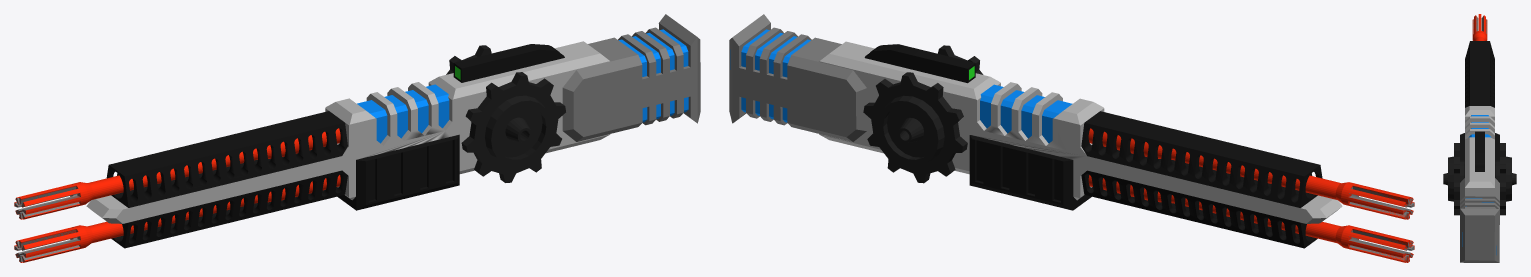
The model's file is EngAA.fbx.
3 renders of one model, left to right at view 1: azimuth 30°, elevation 25°; view 2: azimuth 150°, elevation 25°; view 3: azimuth 270°, elevation 25°, orthographic. The views are drawn at different scales.
Visible parts, largest first — view 1: Main, Mag, jok, FireTop, FireBLow, Box002, Box001, TopB, LowB; view 2: Main, Mag, jok001, FireTop, FireBLow, Box002, Box001, LowB, TopB; view 3: Main, Mag, jok001, jok, FireTop, TopB, Box002.
Boxes of the visible parts, box(x1,y1,x2,y2) form: Main: box(86, 41, 610, 248); Mag: box(562, 14, 700, 141); jok: box(461, 72, 565, 182); FireTop: box(14, 128, 340, 219); FireBLow: box(14, 175, 340, 262); Box002: box(357, 84, 449, 143); Box001: box(619, 29, 688, 122); TopB: box(15, 186, 80, 218); LowB: box(14, 230, 80, 261); Main: box(819, 41, 1342, 248); Mag: box(729, 14, 866, 141); jok001: box(863, 72, 967, 183); FireTop: box(1088, 128, 1414, 219); FireBLow: box(1088, 175, 1414, 262); Box002: box(980, 84, 1072, 143); Box001: box(730, 29, 810, 122); LowB: box(1349, 229, 1414, 261); TopB: box(1349, 186, 1414, 218); Main: box(1460, 41, 1499, 187); Mag: box(1460, 178, 1499, 262); jok001: box(1495, 143, 1516, 215); jok: box(1443, 143, 1464, 215); FireTop: box(1472, 14, 1487, 40); TopB: box(1473, 16, 1486, 33); Box002: box(1468, 115, 1491, 137).
Bounding box in the file's own units: 970 × 152 × 147.
